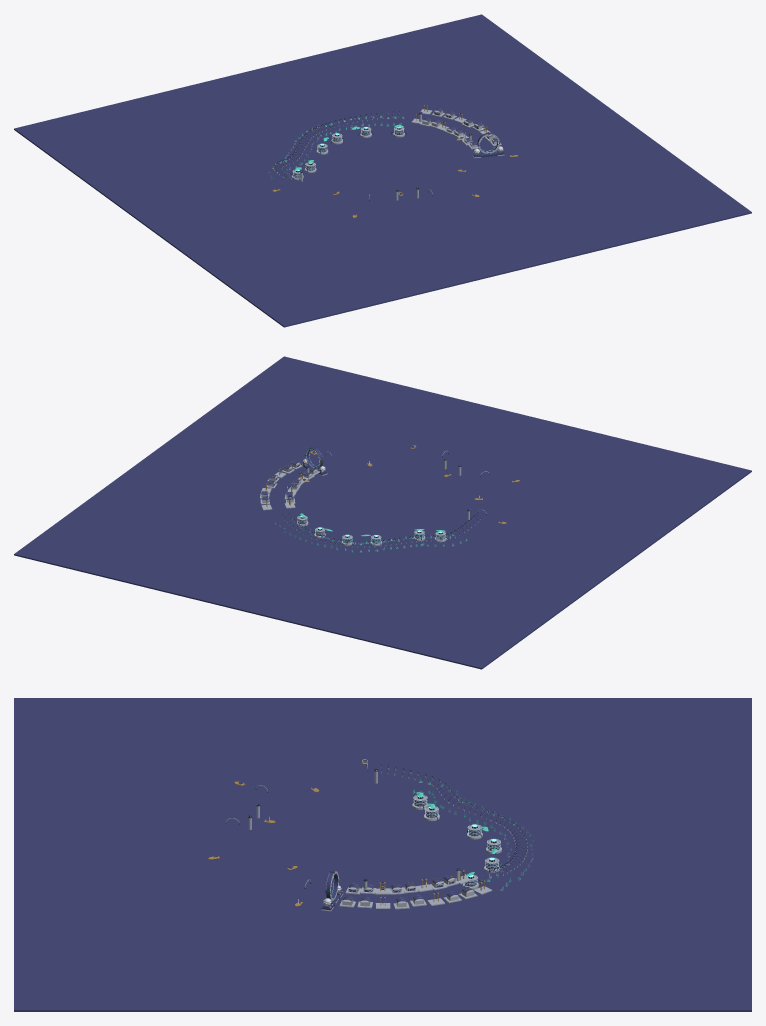
File: tideline_world.glb
3 views of the same model, one above another, from view 1: azimuth 30°, elevation 25°; view 2: azimuth 150°, elevation 25°; view 3: azimuth 270°, elevation 25° (orthographic). The views are drawn at different scales.
Visible parts, largest first — view 1: TL_DISTRICT_REACTOR, TL_DISTRICT_DOCKS, TL_DISTRICT_LOCK; view 2: TL_DISTRICT_REACTOR, TL_DISTRICT_DOCKS, TL_DISTRICT_LOCK; view 3: TL_DISTRICT_REACTOR, TL_DISTRICT_DOCKS, TL_DISTRICT_LOCK, TL_DISTRICT_REENTRY.
Boxes of the visible parts, x1,y1,x2,y2 form: TL_DISTRICT_REACTOR: (14,14,751,327); TL_DISTRICT_DOCKS: (419,108,518,158); TL_DISTRICT_LOCK: (358,104,432,137); TL_DISTRICT_REACTOR: (14,356,751,669); TL_DISTRICT_DOCKS: (260,447,332,504); TL_DISTRICT_LOCK: (261,498,325,539); TL_DISTRICT_REACTOR: (14,698,751,1011); TL_DISTRICT_DOCKS: (295,866,477,911); TL_DISTRICT_LOCK: (456,855,530,894); TL_DISTRICT_REENTRY: (362,757,461,810).
Bounding box in the file's own units: 2200 × 140 × 2200.
